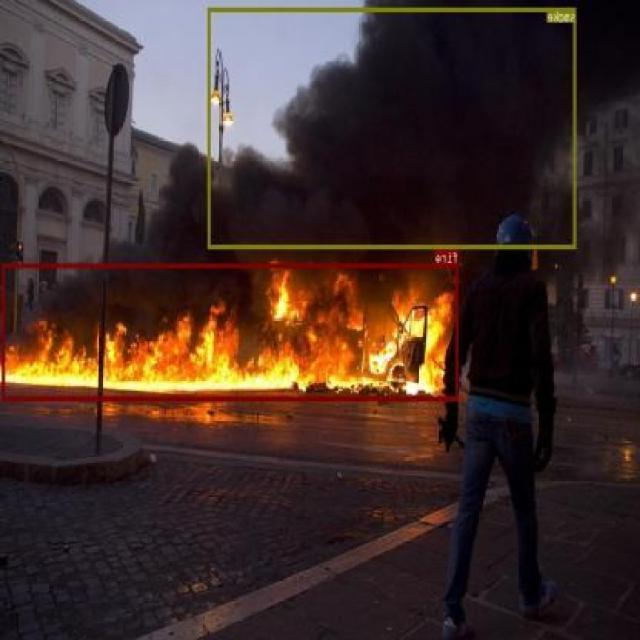Fire: (5, 256, 475, 412)
Smoke: (15, 0, 635, 358)
